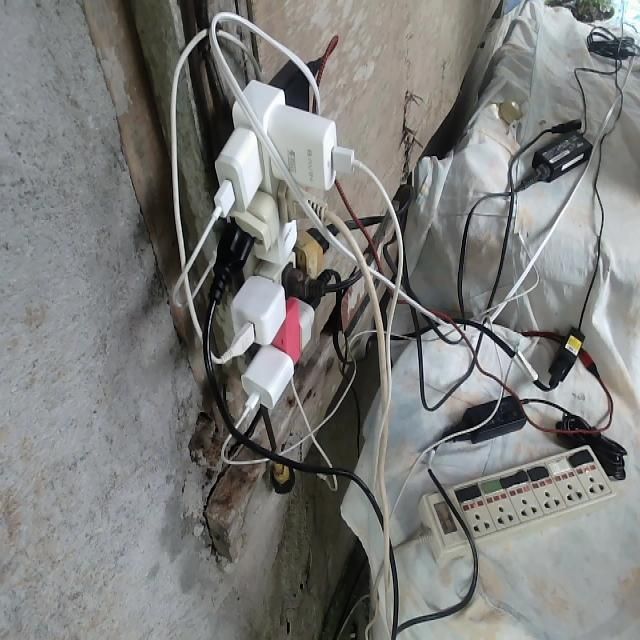-: (210, 63, 354, 412)
